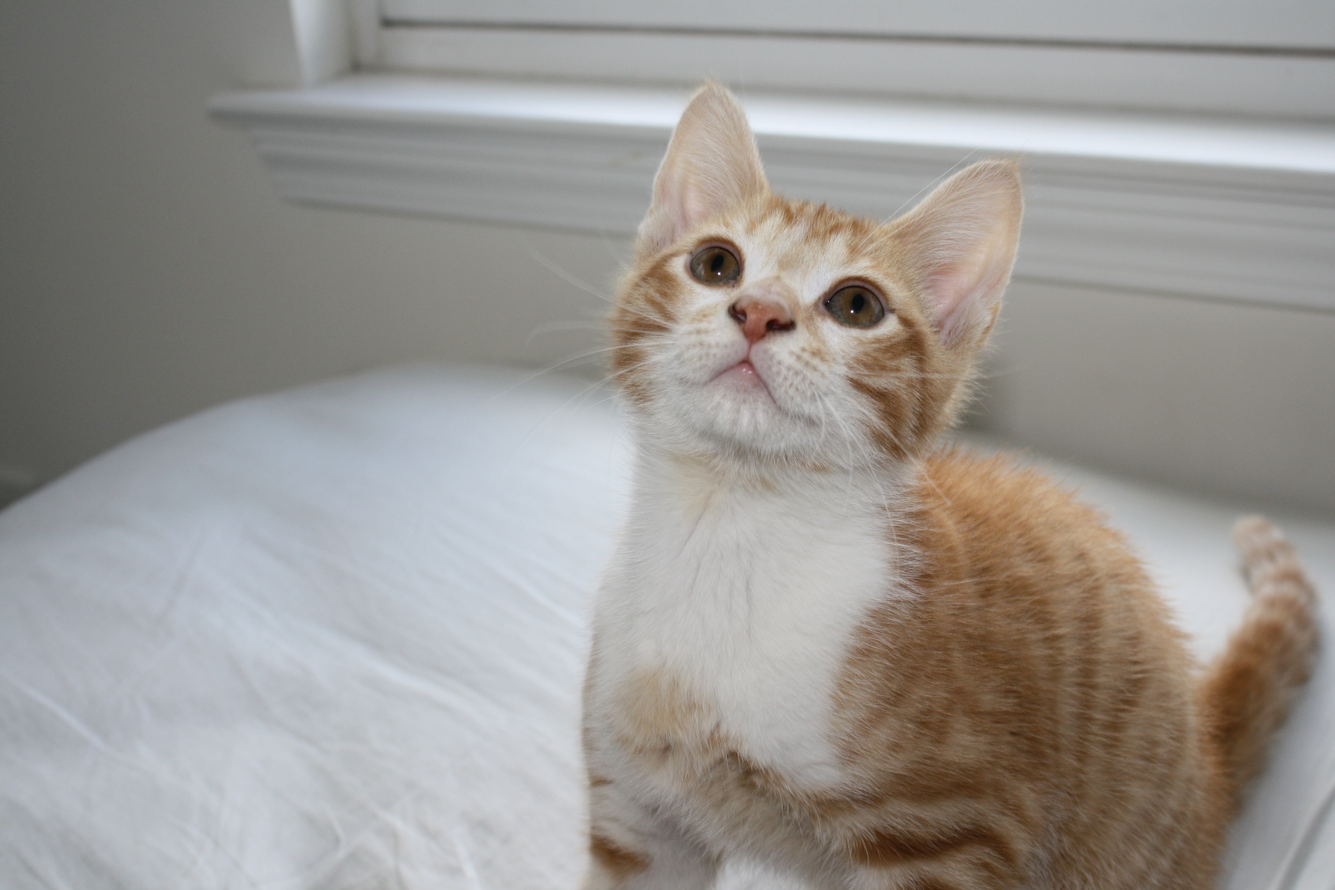cat: (499, 87, 1329, 889)
